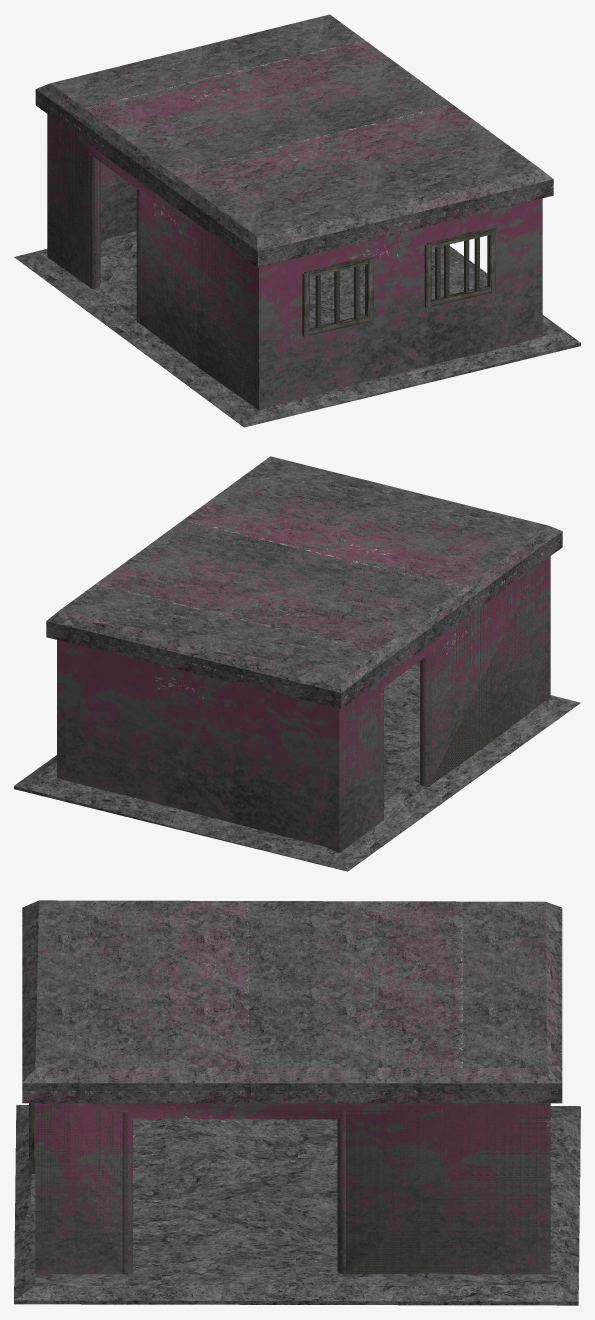
File: oldhouse 1.fbx
3 views of the same model, one above another, from view 1: azimuth 30°, elevation 25°; view 2: azimuth 150°, elevation 25°; view 3: azimuth 270°, elevation 25° (orthographic). The views are drawn at different scales.
Visible parts, largest first — view 1: Group1; view 2: Group1; view 3: Group1.
Part boxes in pixels (x1=…): Group1: x1=14, y1=14, x2=580, y2=427; Group1: x1=14, y1=456, x2=580, y2=871; Group1: x1=14, y1=900, x2=580, y2=1305.
Size of the model in its own units: 555 by 281 by 664.
